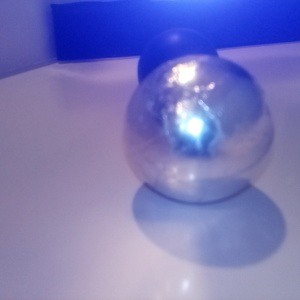alive_ball: (123, 53, 274, 205)
dead_ball: (137, 28, 219, 108)
